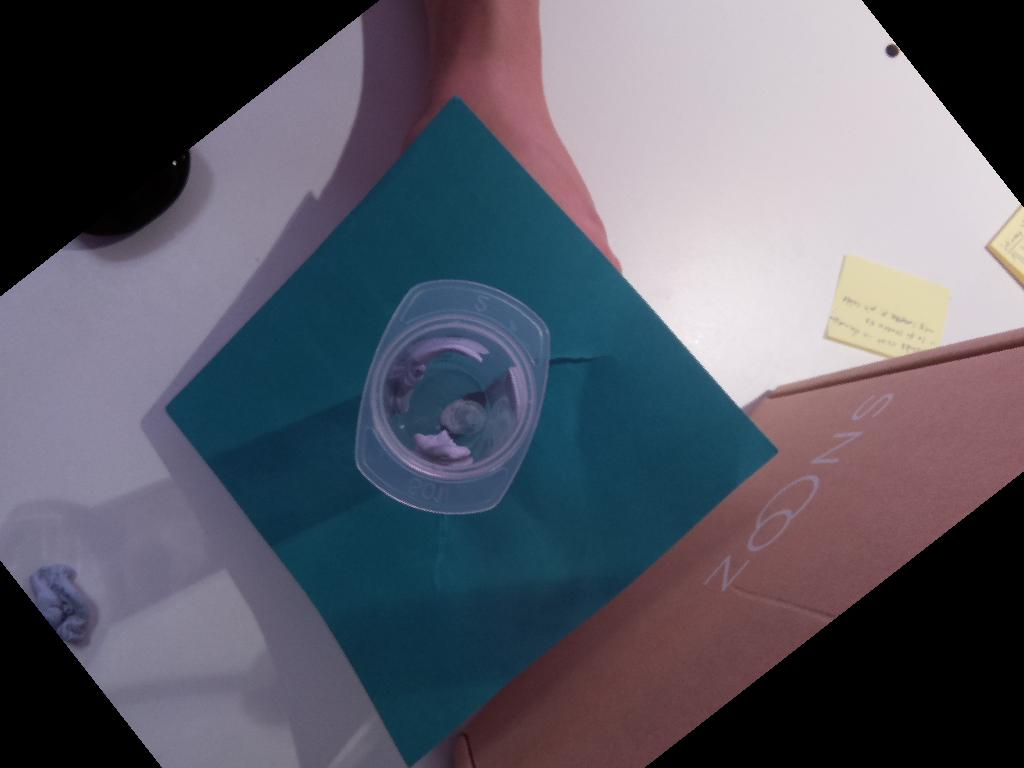dirty: (353, 275, 552, 516)
